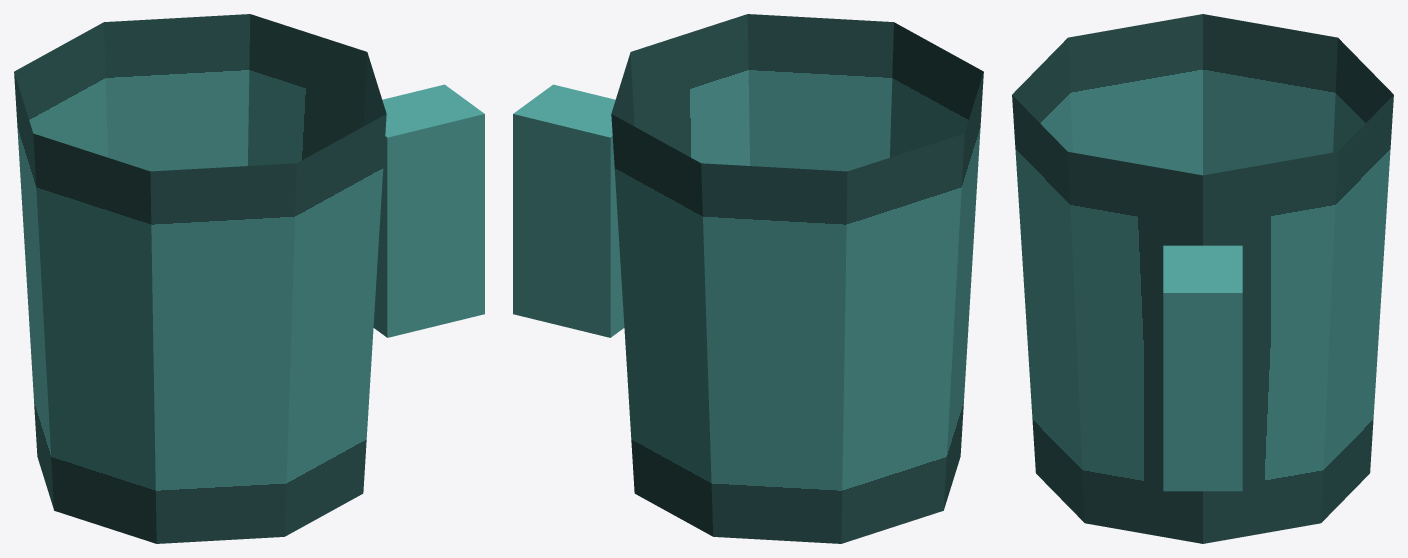
The model's file is Mug_Teal.obj.
3 renders of one model, left to right at view 1: azimuth 30°, elevation 25°; view 2: azimuth 150°, elevation 25°; view 3: azimuth 270°, elevation 25°, orthographic.
Visible parts, largest first — view 1: Mug_Teal; view 2: Mug_Teal; view 3: Mug_Teal.
Boxes of the visible parts, x1,y1,x2,y2 form: Mug_Teal: (14, 14, 484, 543); Mug_Teal: (513, 14, 983, 543); Mug_Teal: (1012, 14, 1393, 543).
Bounding box in the file's own units: 0.124 × 0.105 × 0.096.
1 material, 1 textured.
